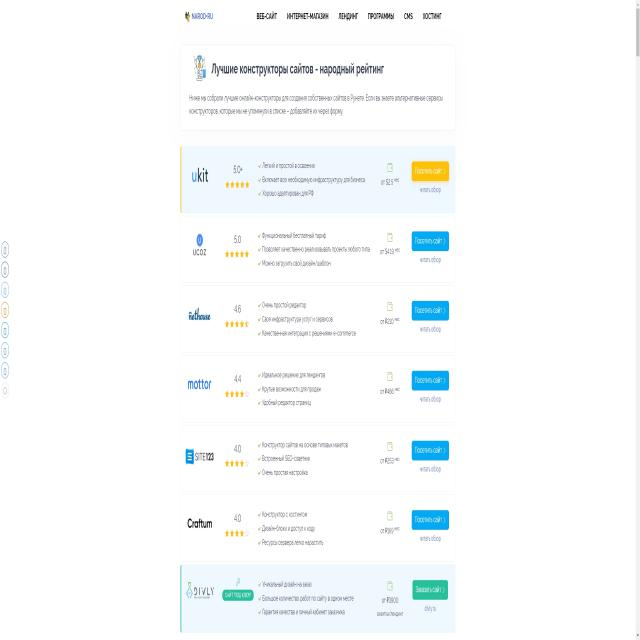content: (186, 89, 448, 122)
menu-bar: (253, 4, 448, 22)
